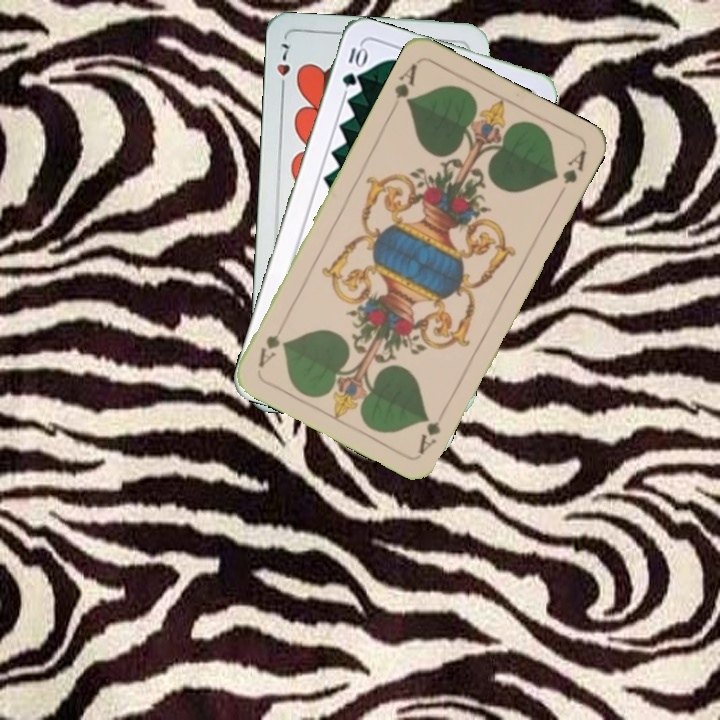G10: (338, 41, 368, 90)
GA: (414, 402, 448, 457), (387, 59, 420, 114)
H7: (273, 39, 293, 96)
